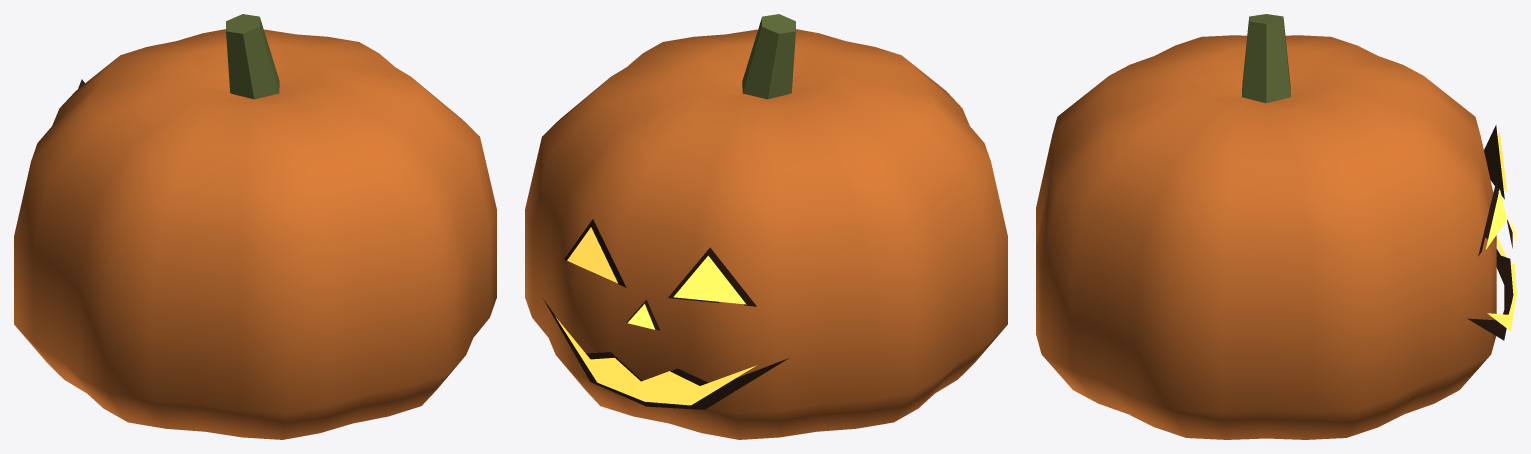
The model's file is pumpkin-lantern.glb.
3 renders of one model, left to right at view 1: azimuth 30°, elevation 25°; view 2: azimuth 150°, elevation 25°; view 3: azimuth 270°, elevation 25°, orthographic.
Visible parts, largest first — view 1: pumpkin-lantern; view 2: pumpkin-lantern; view 3: pumpkin-lantern.
Part boxes in pixels (x1=…): pumpkin-lantern: x1=14, y1=14, x2=496, y2=439; pumpkin-lantern: x1=525, y1=14, x2=1007, y2=439; pumpkin-lantern: x1=1036, y1=14, x2=1516, y2=439.
Bounding box in the file's own units: 0.5111 × 0.4309 × 0.5335.
